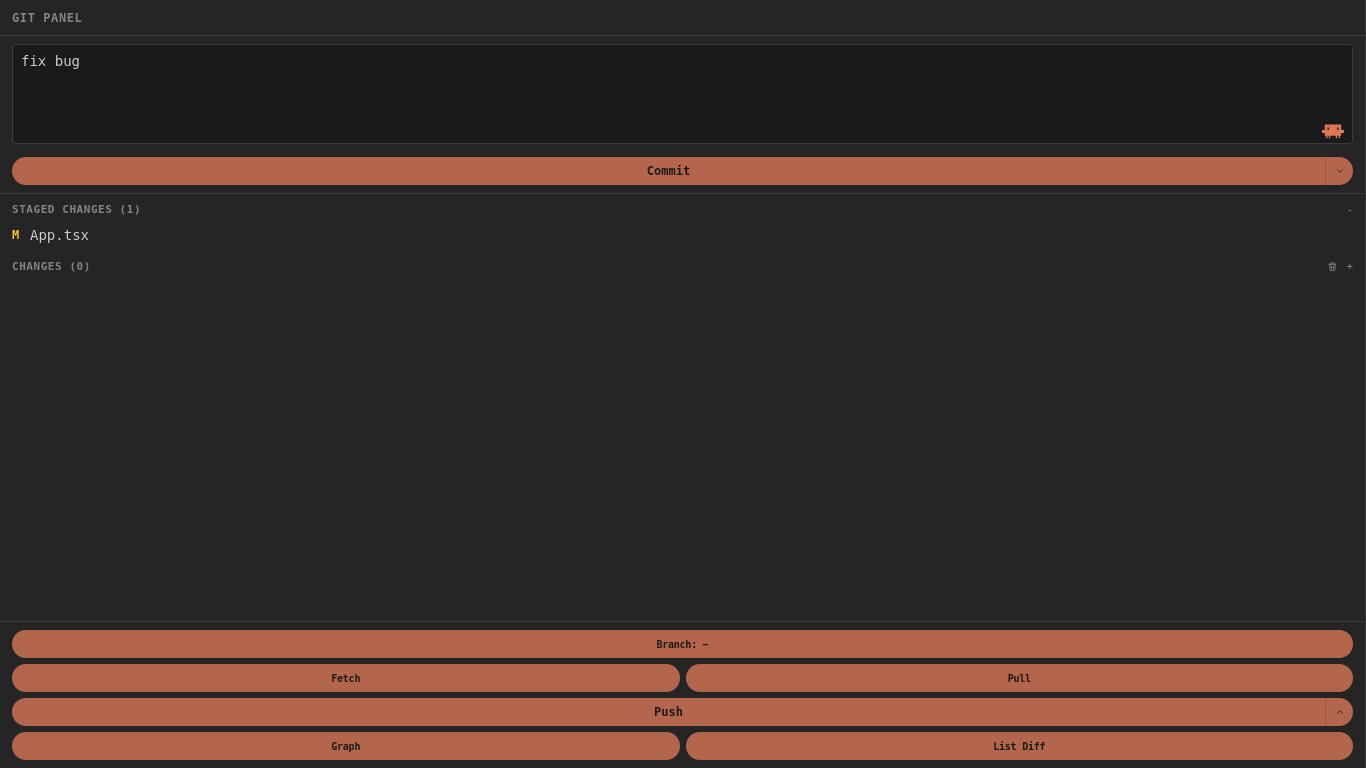
Test case: GitPanel — commit options (--no-verify) › clicking the options chevron opens a panel with a one-click "Commit --no-verify" button
Click the button named "Commit options": click(1339, 171) [1325,157,1353,185]
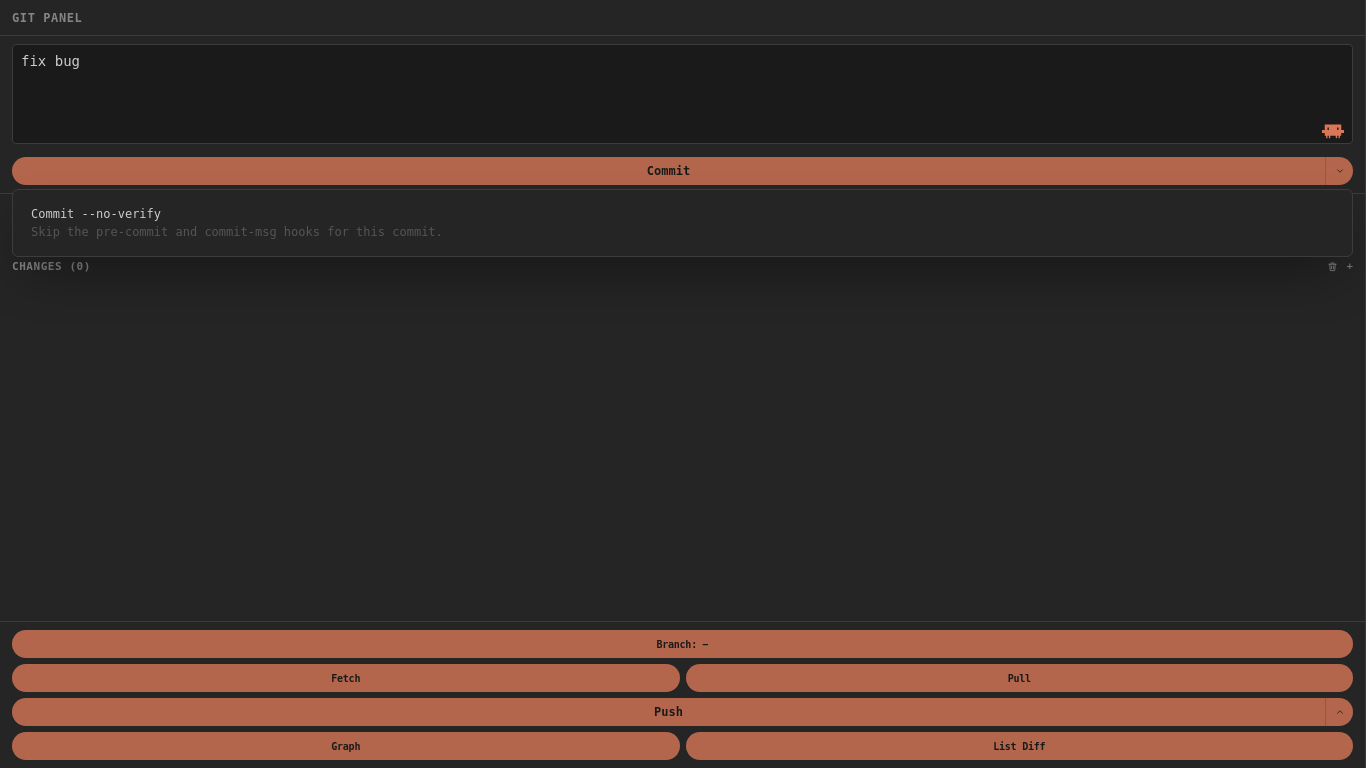
Now the text "Commit --no-verify" is shown, box [31,206,161,222]
